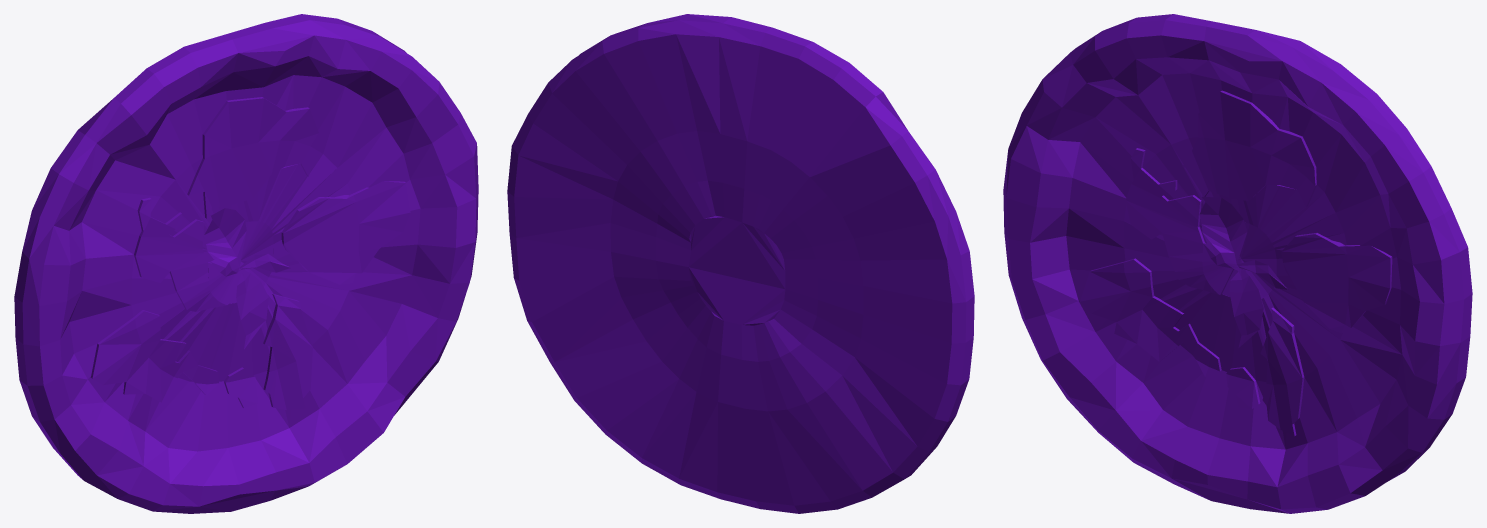
Rendered from 240327_pizza final animation_v3.glb.
3 views of the same model, side by side, from view 1: azimuth 30°, elevation 25°; view 2: azimuth 150°, elevation 25°; view 3: azimuth 330°, elevation 25° (orthographic).
Parts seen in each view (by area): view 1: Pizza red; view 2: Pizza red; view 3: Pizza red.
Boxes of the visible parts, x1,y1,x2,y2 form: Pizza red: [14, 14, 478, 513]; Pizza red: [507, 14, 974, 513]; Pizza red: [1003, 14, 1472, 513].
Size of the model in its own units: 0.3481 by 0.3458 by 0.0353.
